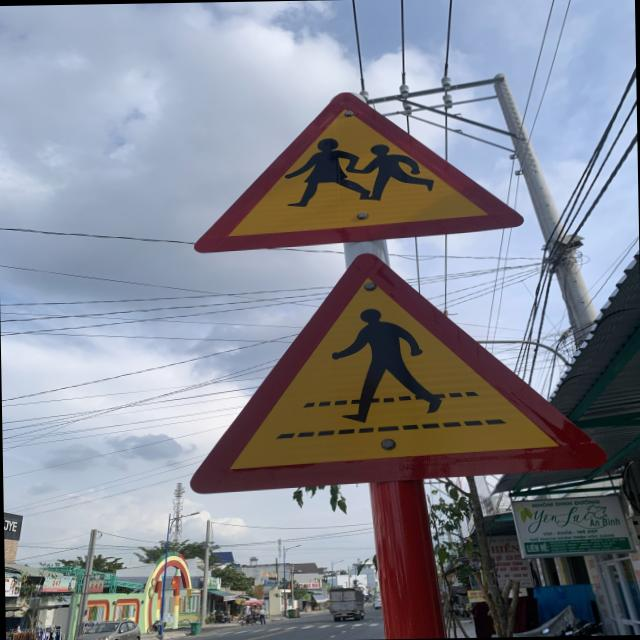Duong_Nguoi_Di_Bo_Sang_Ngang: (185, 248, 608, 494)
Vong_Xuyen: (189, 86, 527, 255)
